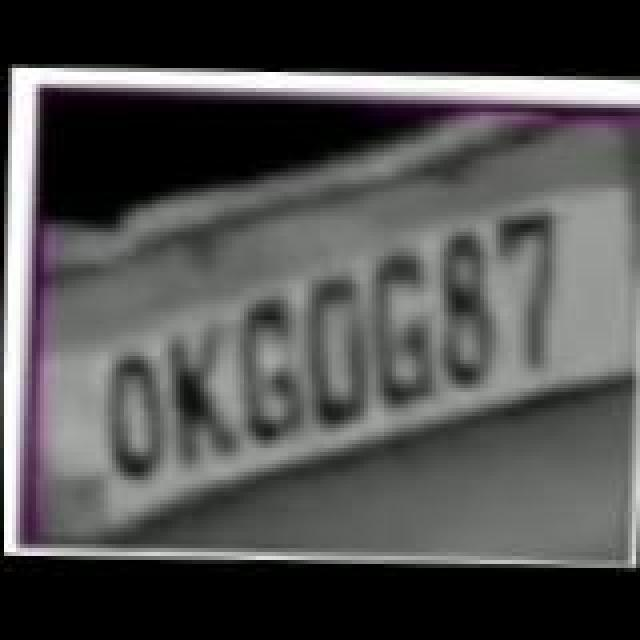7: (490, 212, 570, 376)
8: (426, 224, 506, 392)
D: (294, 268, 378, 428)
G: (364, 252, 448, 416), (226, 292, 310, 448)
K: (162, 326, 246, 470)
O: (94, 348, 174, 484)
